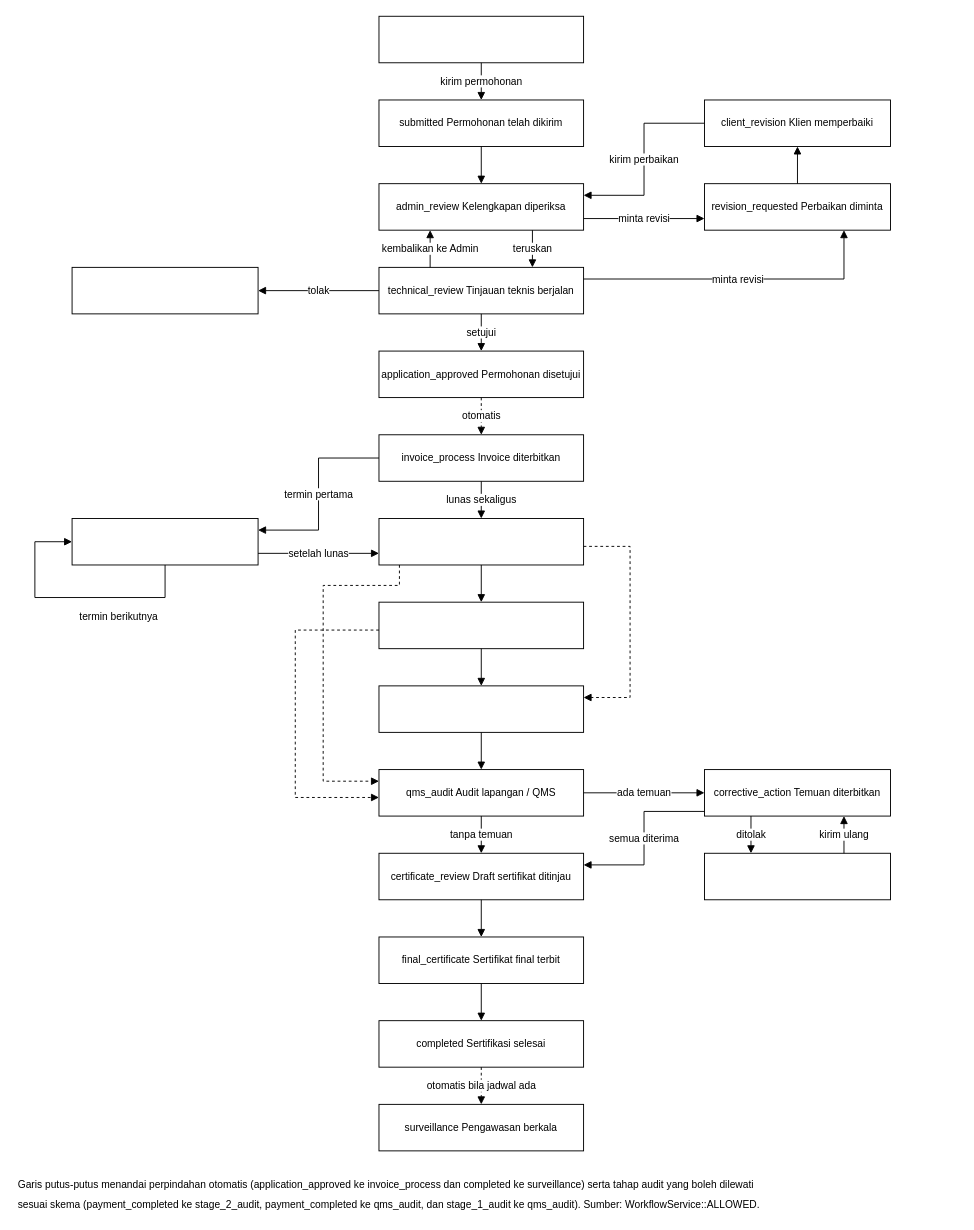
Image size: 974x1230. Some labels were removed from this diagram. Here are the shapes that lost their labels. From the top down, the centre of each, then its label:
At [481,39]: "draft Permohonan sedang diisi".
At [164,290]: "rejected Proses berhenti".
At [164,541]: "payment_partial Dibayar sebagian".
At [481,541]: "payment_completed Pembayaran lunas".
At [481,625]: "stage_1_audit Audit Tahap 1".
At [481,708]: "stage_2_audit Audit Tahap 2".
At [797,876]: "corrective_revision Koreksi perlu diperbaiki".
